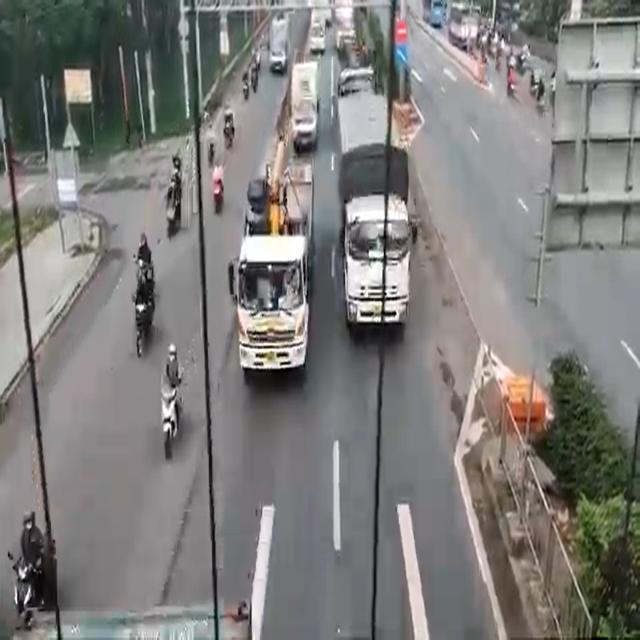motor: (12, 512, 48, 621), (156, 346, 187, 464), (134, 269, 156, 356), (208, 157, 226, 219), (162, 170, 180, 230), (220, 102, 237, 154)
truck: (328, 86, 420, 348), (242, 160, 310, 380), (287, 56, 320, 150), (267, 16, 287, 70)
